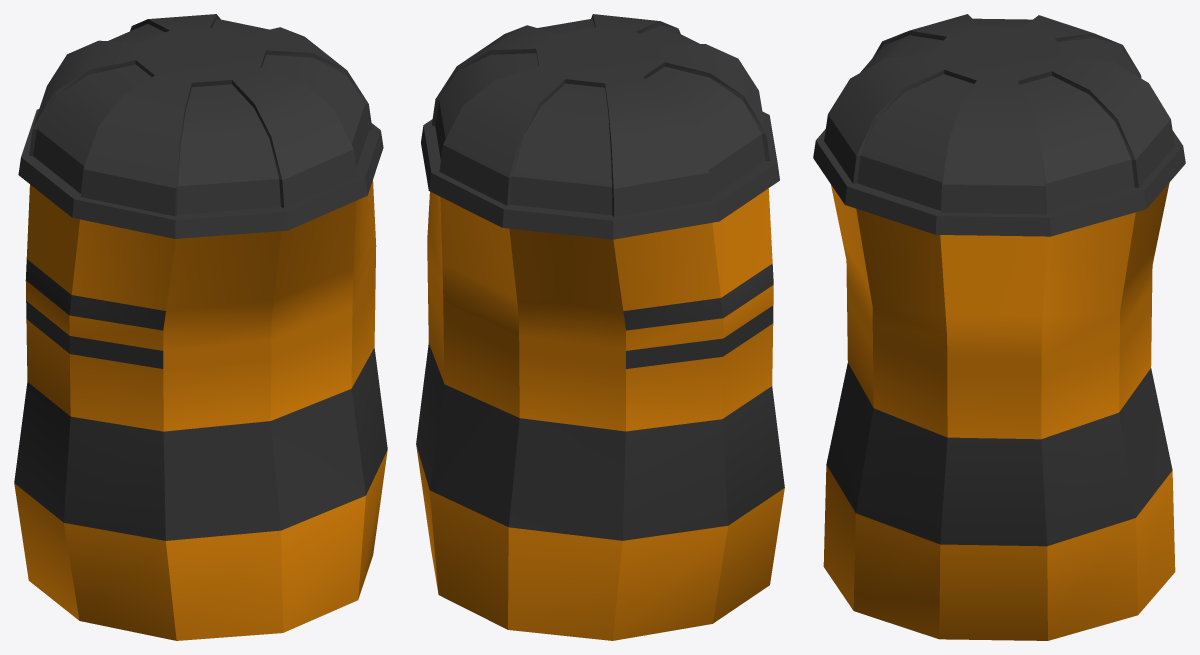
Rendered from 11 Speed Breaker.FBX.
3 views of the same model, side by side, from view 1: azimuth 30°, elevation 25°; view 2: azimuth 150°, elevation 25°; view 3: azimuth 270°, elevation 25° (orthographic).
Visible parts, largest first — view 1: Speed Breaker_2; view 2: Speed Breaker_2; view 3: Speed Breaker_2.
Part boxes in pixels (bbox=[...]): Speed Breaker_2: bbox=[14, 14, 387, 640]; Speed Breaker_2: bbox=[416, 14, 784, 640]; Speed Breaker_2: bbox=[813, 14, 1185, 640].
Bounding box in the file's own units: 187 × 284 × 186.
